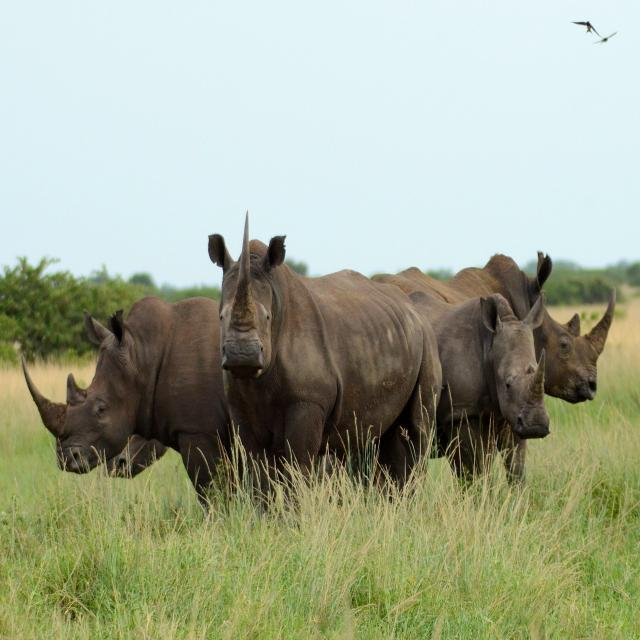rhinoceros: (209, 213, 442, 486), (21, 296, 230, 495), (433, 291, 550, 481), (534, 290, 616, 403)
